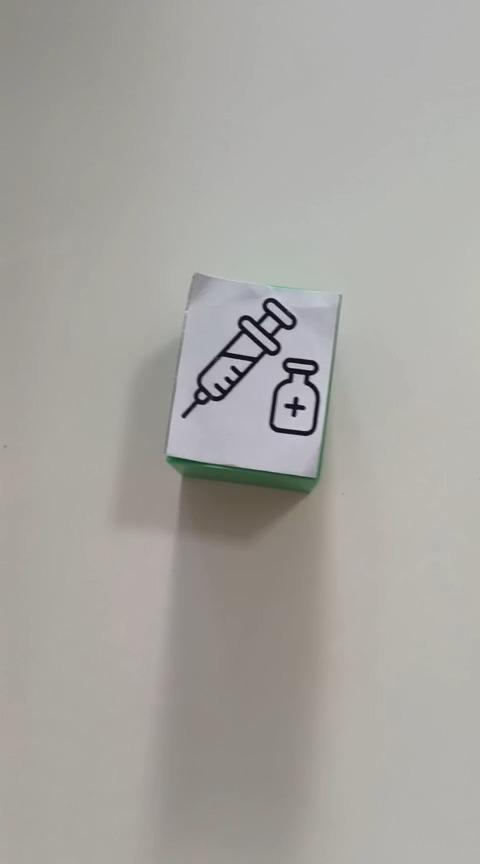antiseptic cream: (163, 270, 342, 493)
